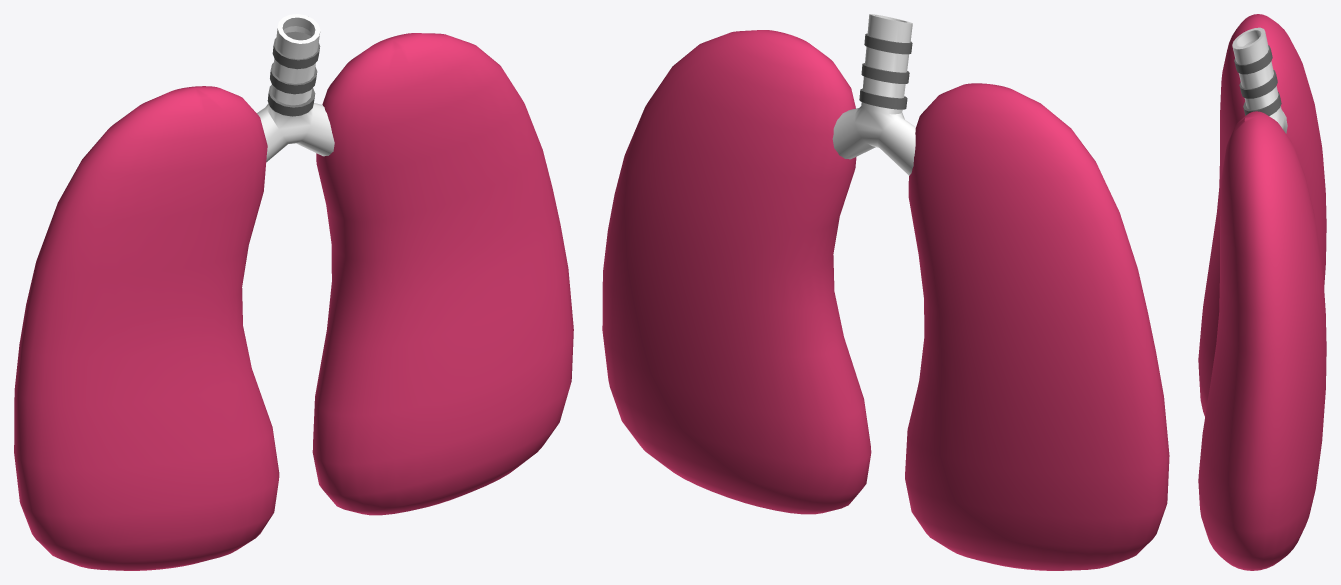
The model's file is lungs.glb.
3 renders of one model, left to right at view 1: azimuth 30°, elevation 25°; view 2: azimuth 150°, elevation 25°; view 3: azimuth 270°, elevation 25°, orthographic. The views are drawn at different scales.
Visible parts, largest first — view 1: Sphere.025; view 2: Sphere.025; view 3: Sphere.025.
Part boxes in pixels (box(x1,y1,x2,y2)): Sphere.025: box(14, 14, 573, 570); Sphere.025: box(602, 14, 1169, 570); Sphere.025: box(1198, 14, 1326, 570).
Bounding box in the file's own units: 2.32 × 2.05 × 0.5189.
1 material, 1 textured.
